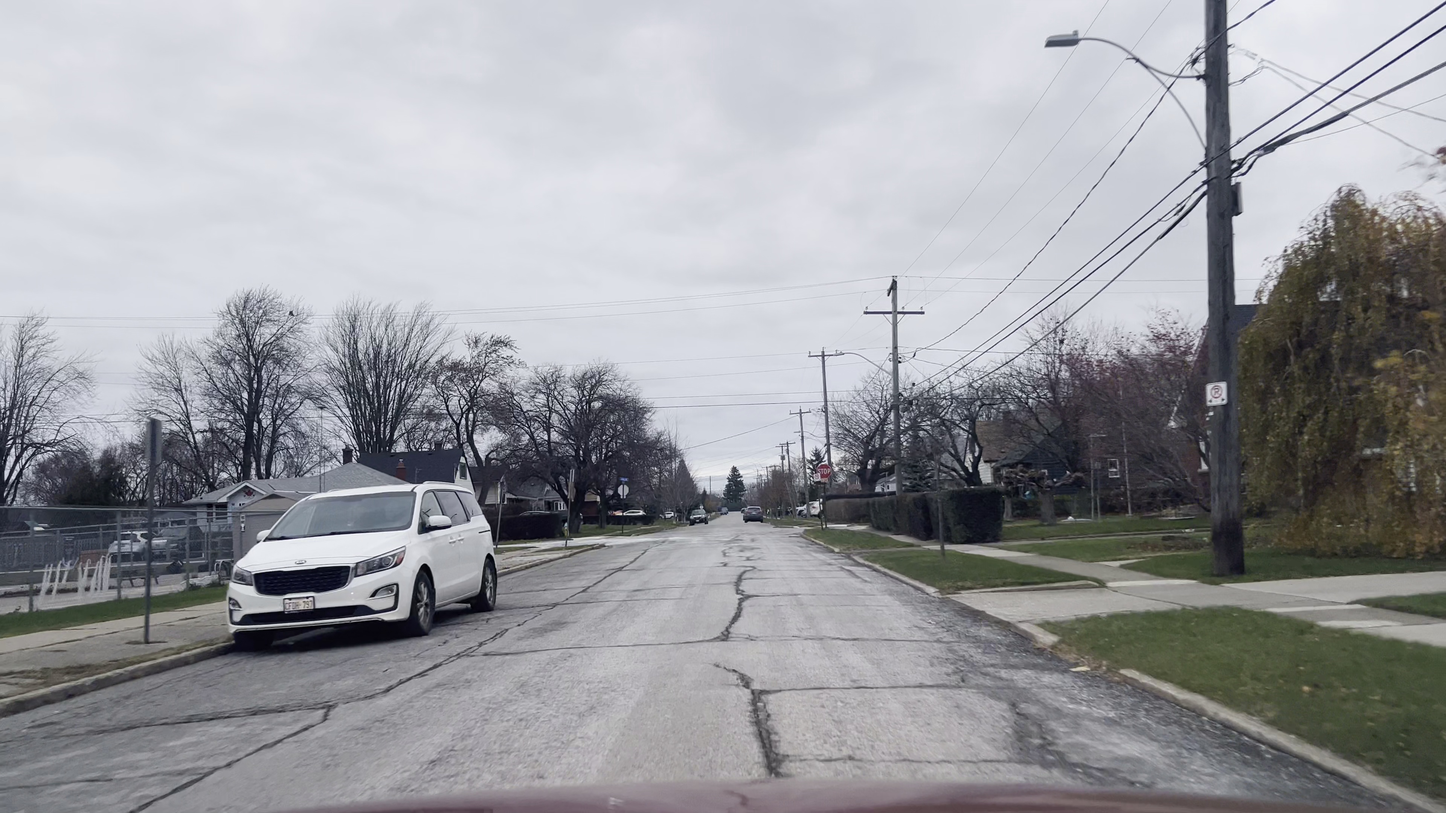cracks: (934, 663, 1109, 781), (707, 663, 795, 773), (148, 747, 244, 808), (723, 556, 755, 643), (287, 699, 327, 743)
